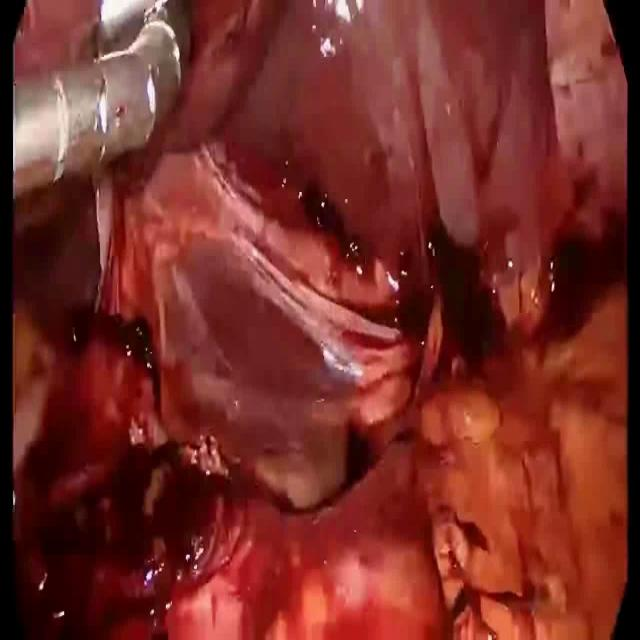surgical-area: (12, 0, 628, 639), (12, 0, 102, 78)
surgical-tool: (12, 0, 192, 200)
